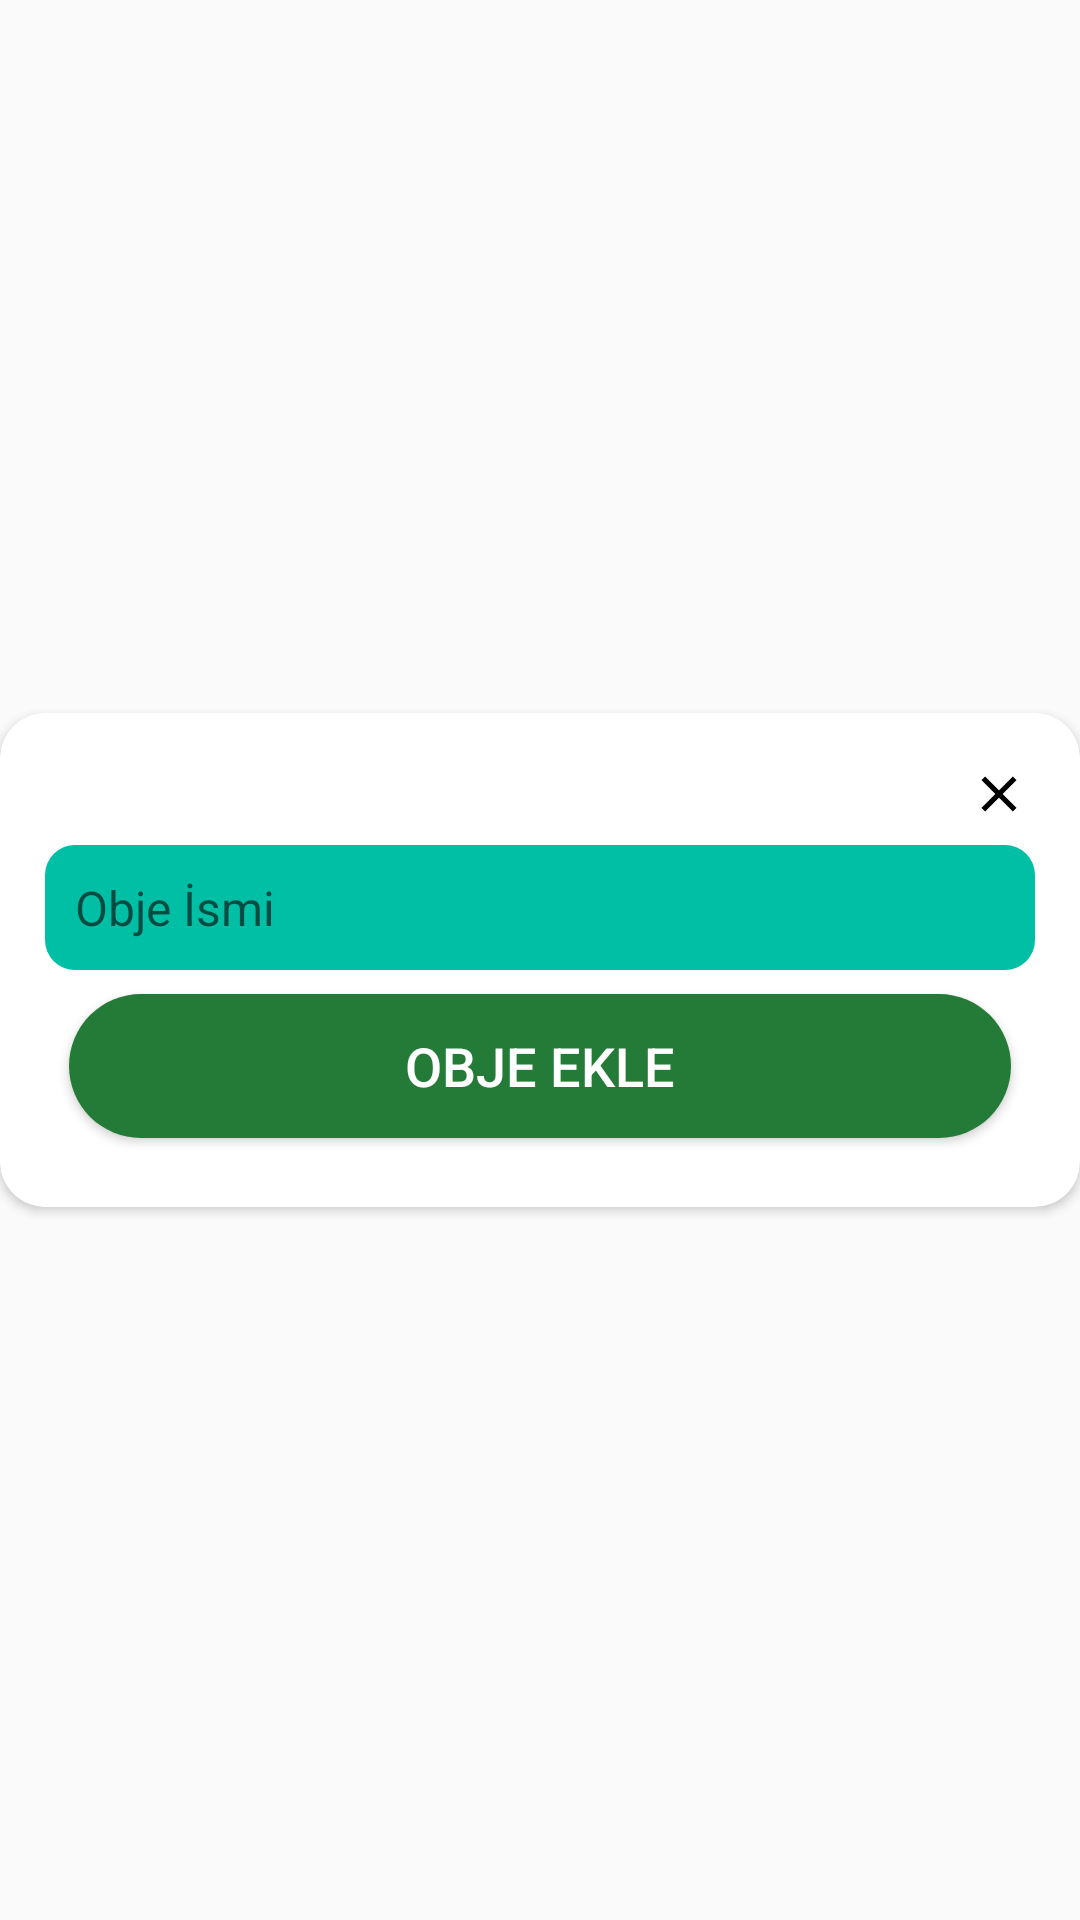

Icon click points for this 1080x1920 phone screenshot, format [x,y]:
close: [999,794]
